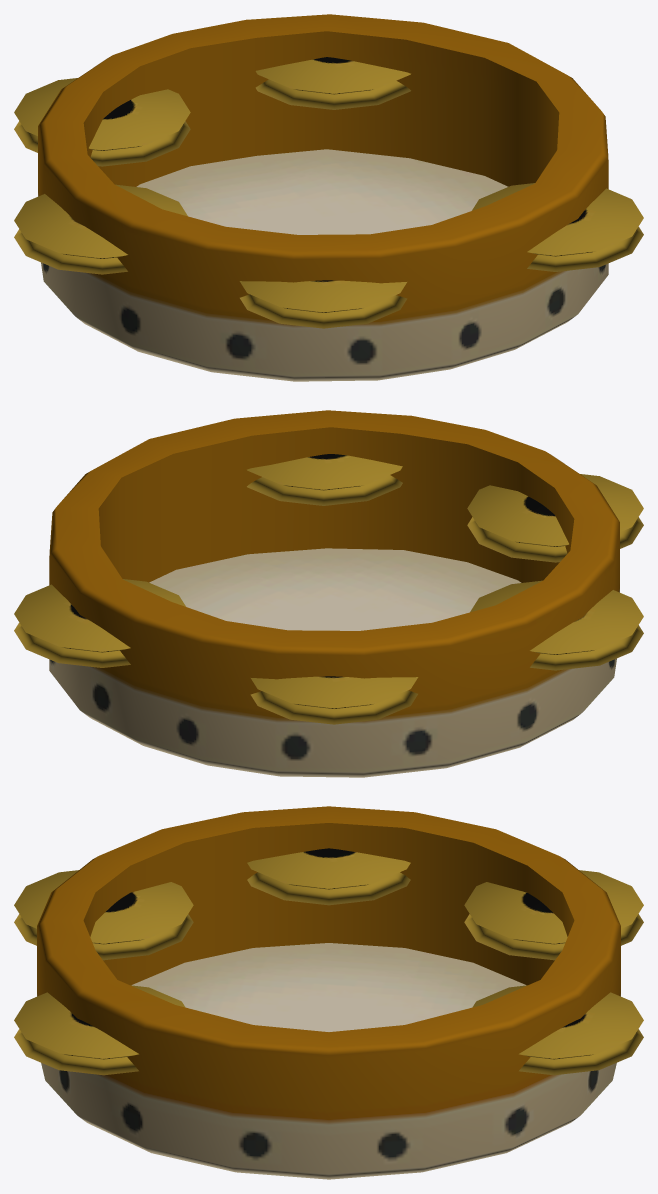
The model's file is ToolTambourine.glb.
The picture shows the model from 3 angles, top to bottom: view 1: azimuth 30°, elevation 25°; view 2: azimuth 150°, elevation 25°; view 3: azimuth 270°, elevation 25°; orthographic projection.
Visible parts, largest first — view 1: Body__mTool; view 2: Body__mTool; view 3: Body__mTool.
Part boxes in pixels (left/top/right/bottom): Body__mTool: left=14, top=14, right=643, bottom=381; Body__mTool: left=14, top=410, right=643, bottom=777; Body__mTool: left=14, top=806, right=643, bottom=1179.
Bounding box in the file's own units: 3.91 × 0.9044 × 3.84.
Materials: 1 (1 with a texture image).
